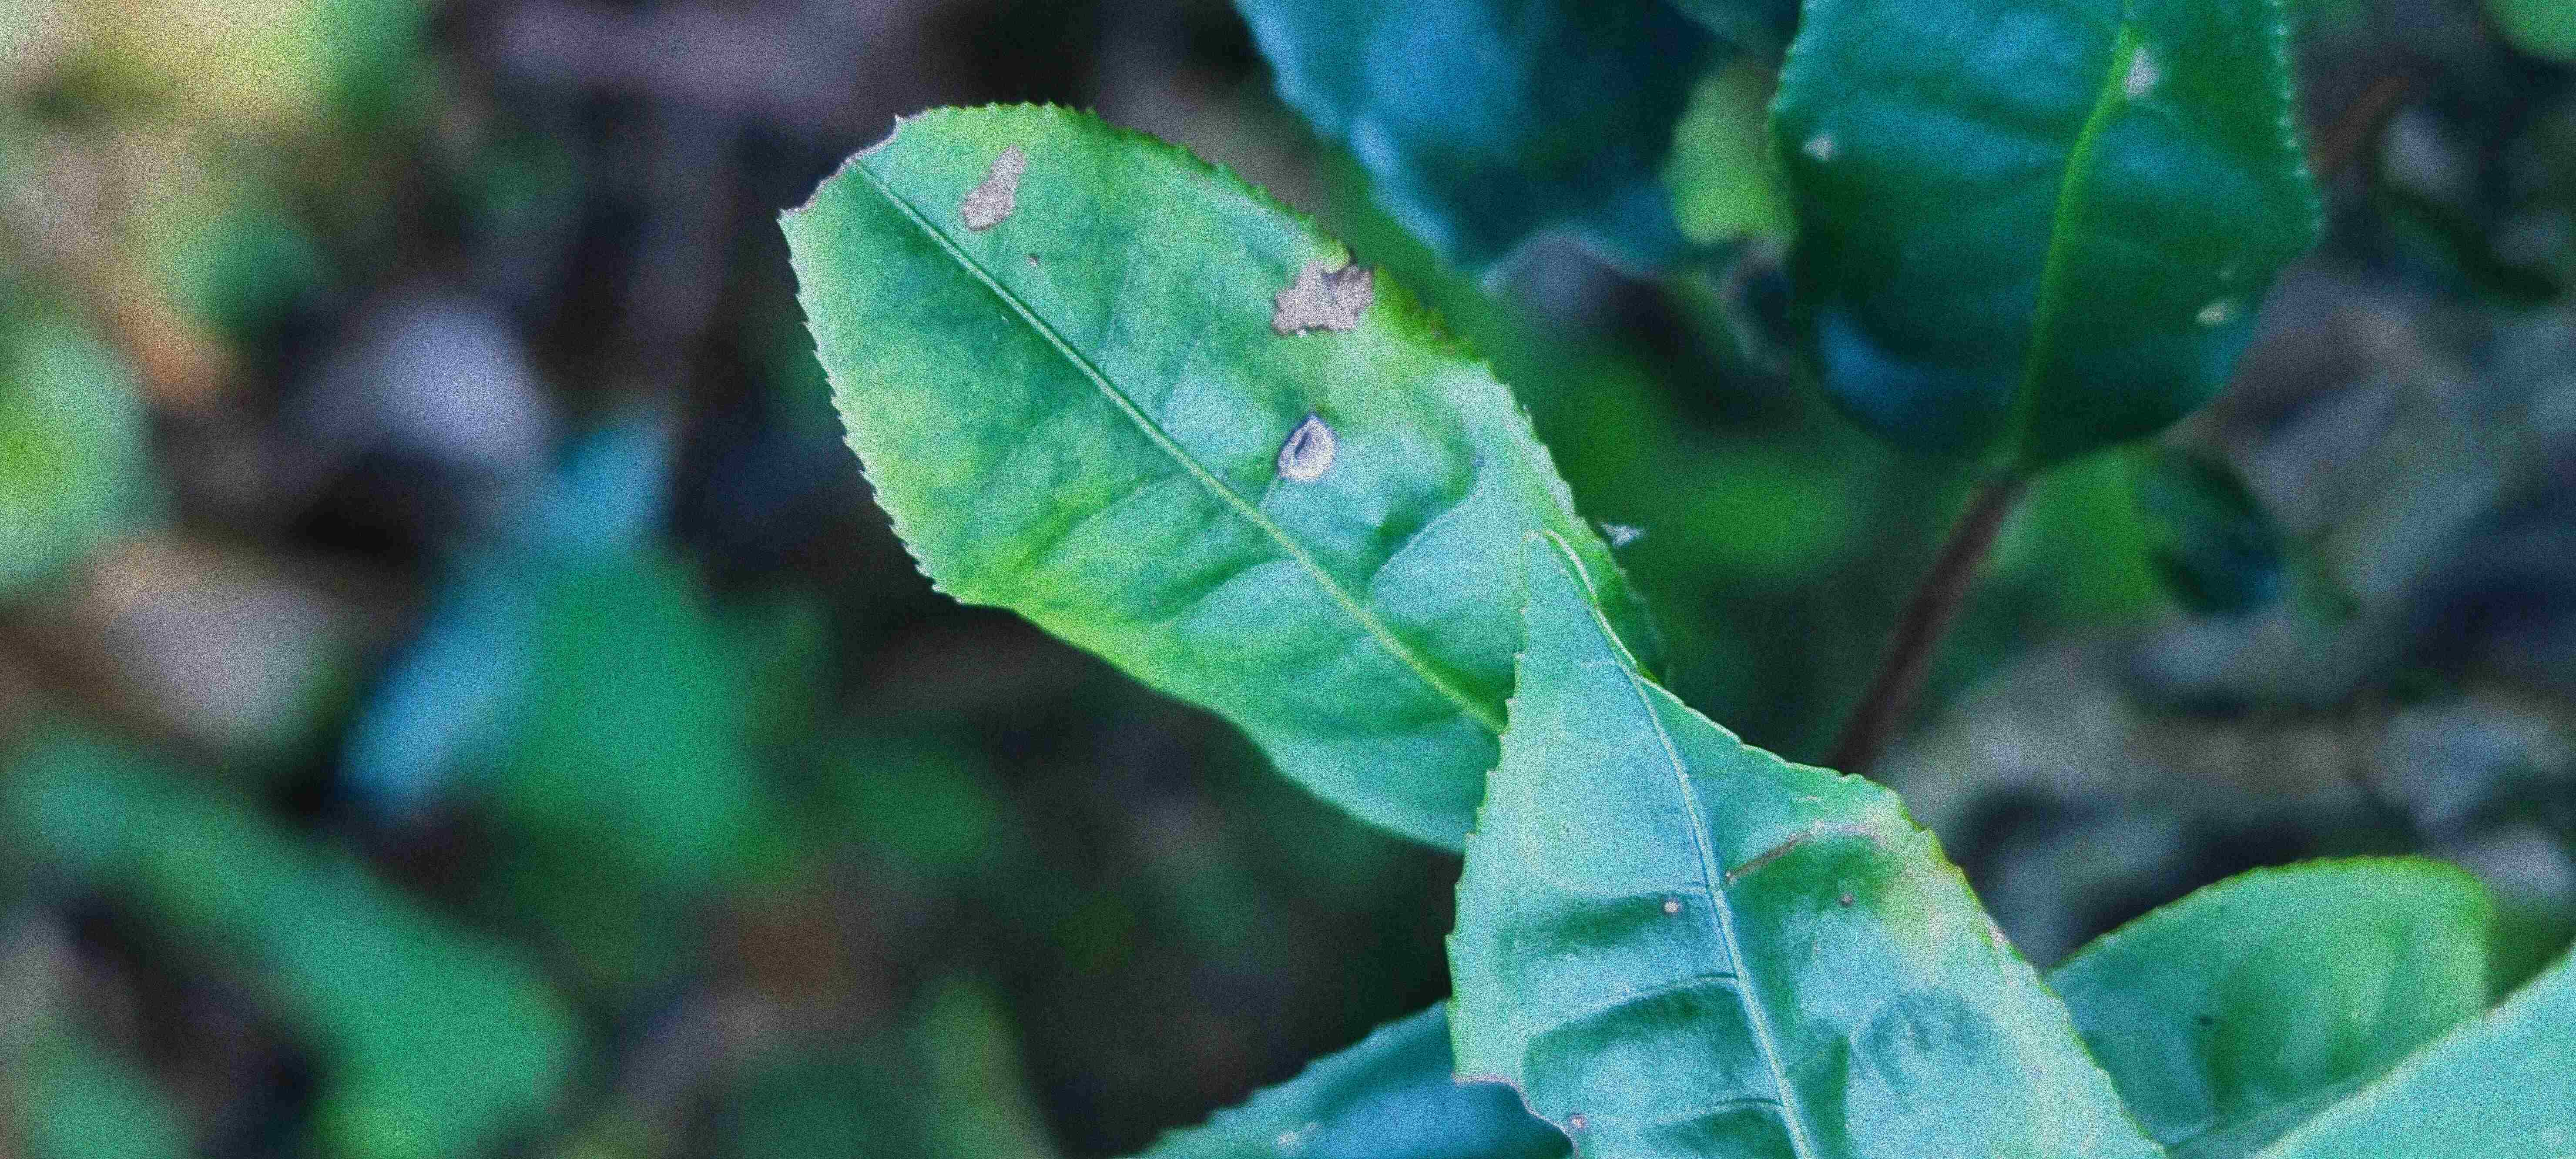chihuo_low: (1444, 517, 2178, 1156)
tanju_high: (780, 97, 1682, 850)
